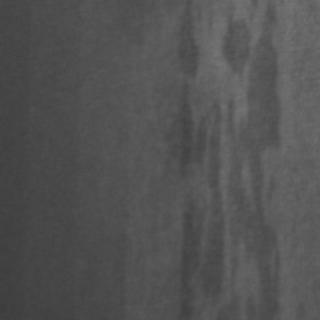inclusion: (174, 3, 286, 315)
